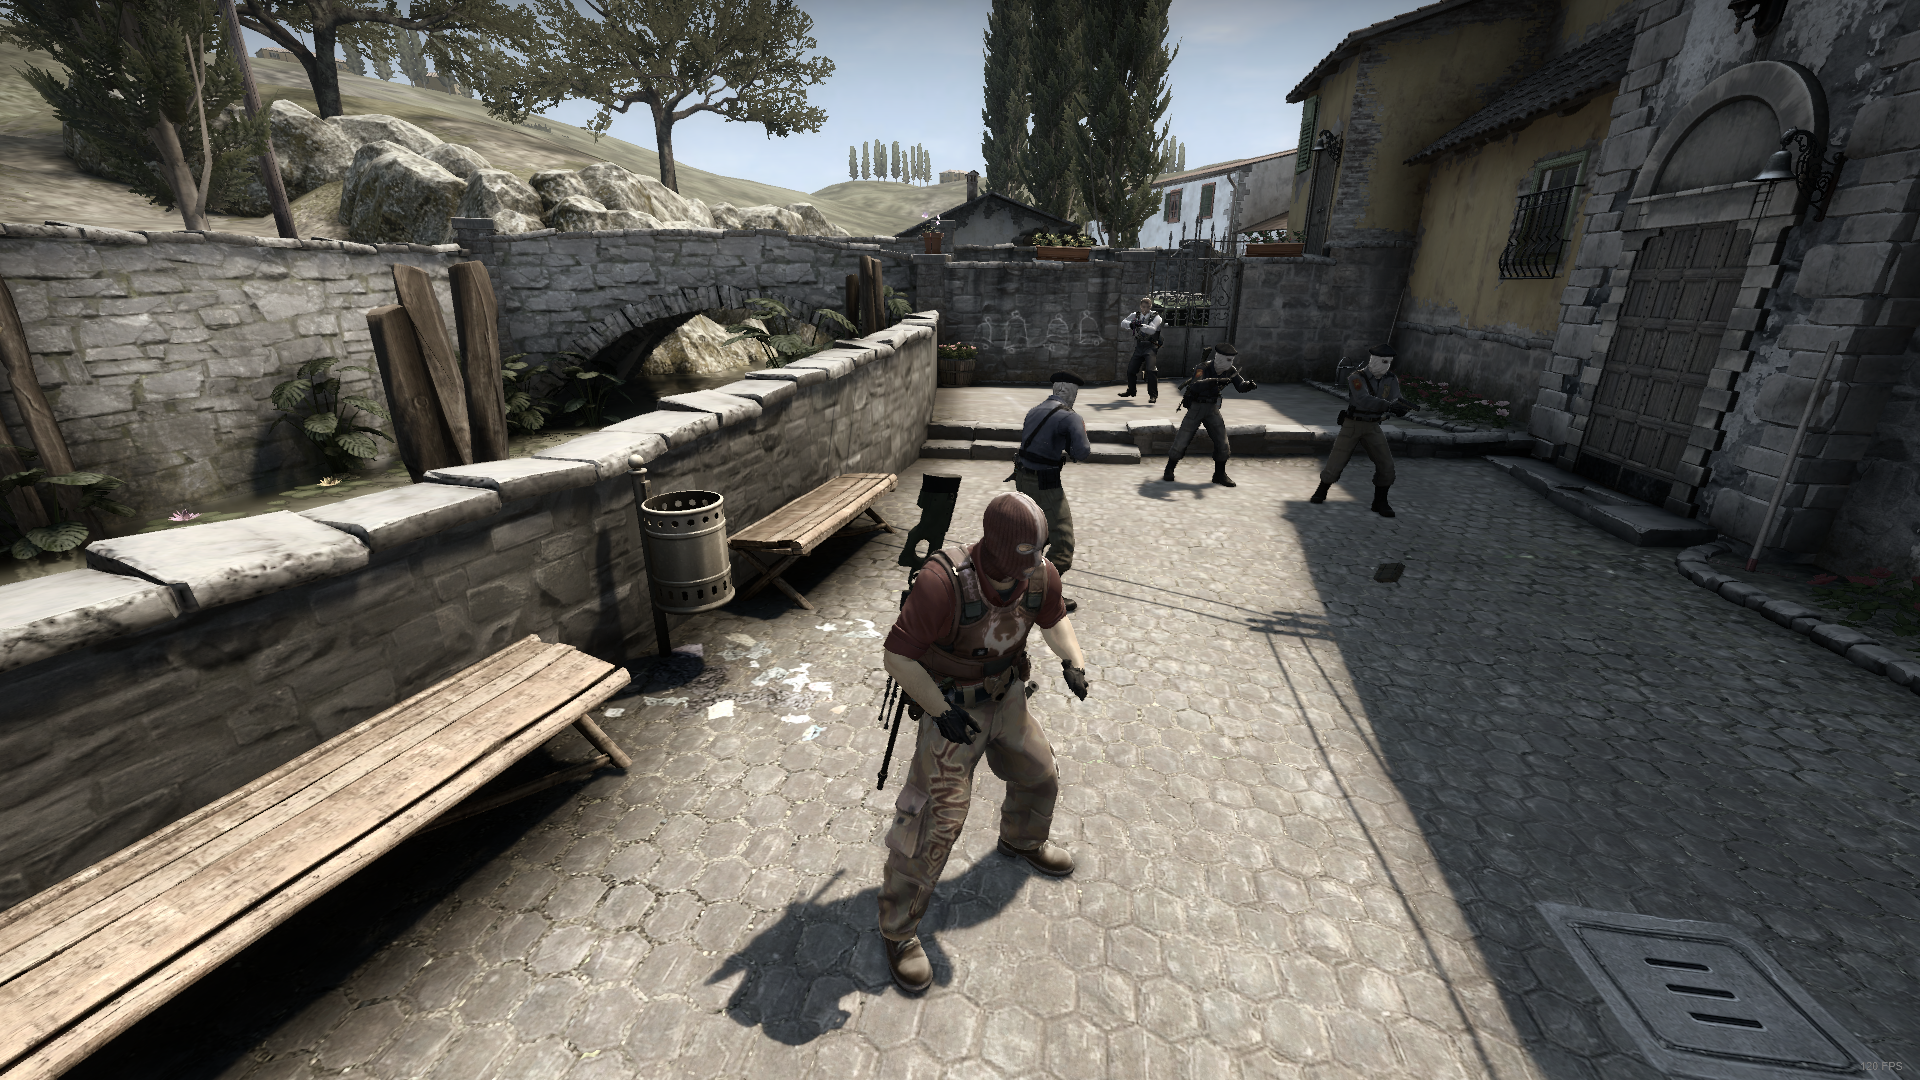t: (1303, 338, 1408, 518), (1014, 371, 1092, 582), (1163, 342, 1259, 492)
